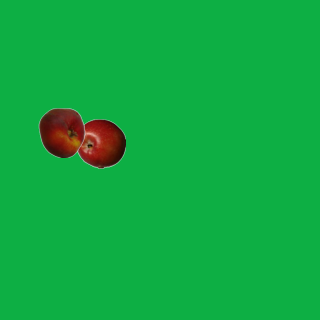Apple Braeburn: (75, 118, 125, 168)
Nectarine Flat: (36, 107, 86, 157)
